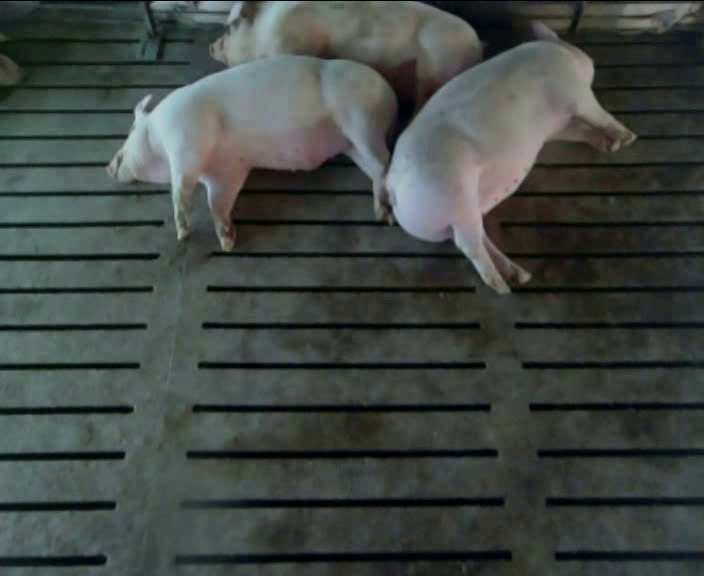pig: (386, 20, 635, 293), (108, 56, 396, 250), (210, 1, 481, 108)
